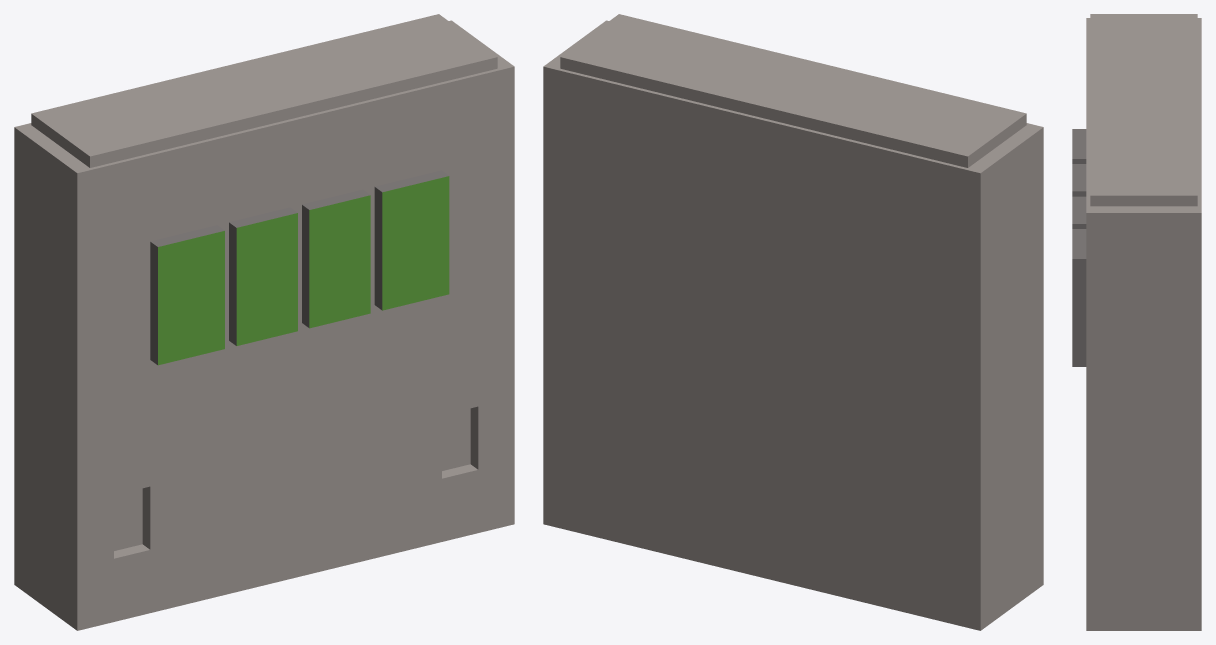
The model's file is Doorlock.fbx.
The picture shows the model from 3 angles, left to right: view 1: azimuth 30°, elevation 25°; view 2: azimuth 150°, elevation 25°; view 3: azimuth 270°, elevation 25°; orthographic projection. The views are drawn at different scales.
Parts seen in each view (by area): view 1: Cube; view 2: Cube; view 3: Cube.
Part boxes in pixels (left/top/right/bottom): Cube: left=14, top=14, right=514, bottom=630; Cube: left=543, top=14, right=1043, bottom=630; Cube: left=1072, top=14, right=1201, bottom=630.
Size of the model in its own units: 20 by 20.51 by 5.6.
